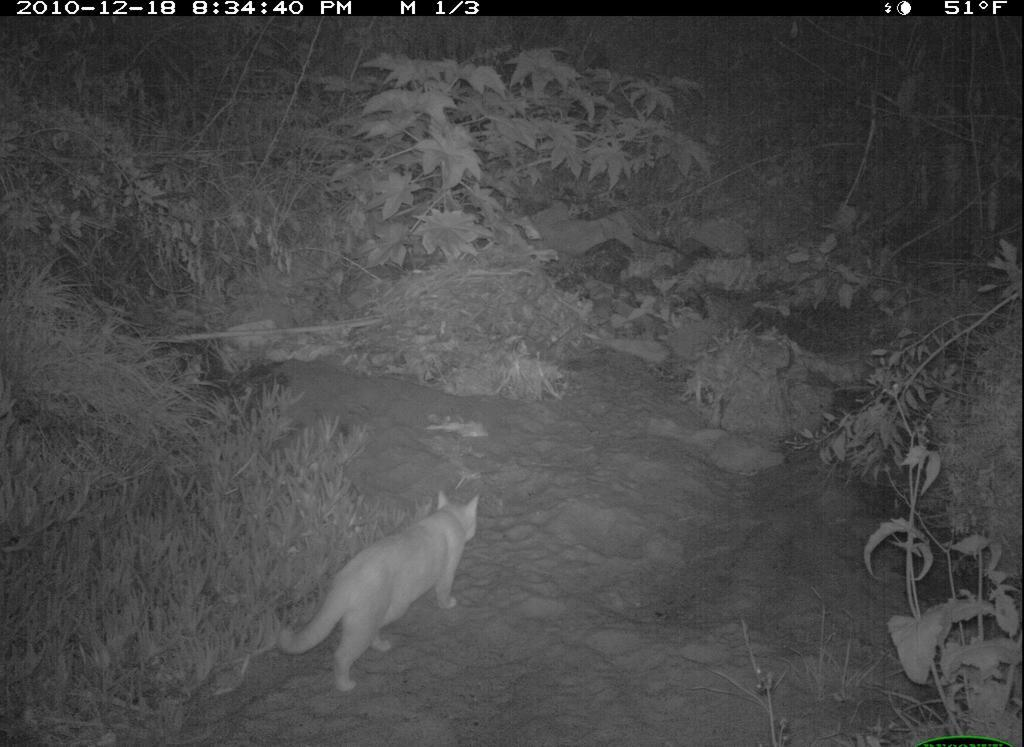cat: (264, 485, 488, 697)
